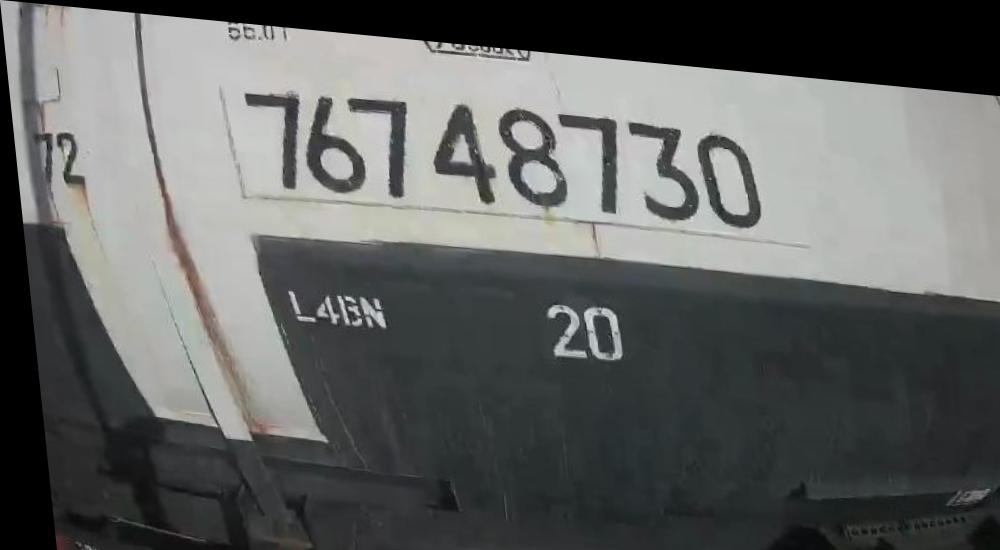Wagon-number: (235, 72, 768, 226)
